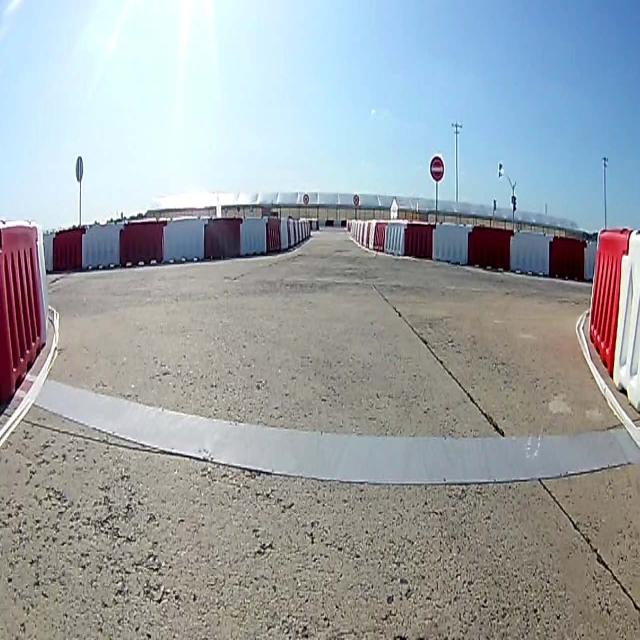girisyok: (427, 151, 445, 181)
